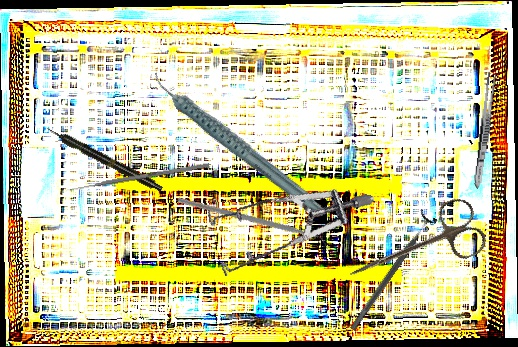Chopper: (176, 160, 330, 289)
Dressing Forceps: (471, 70, 498, 190)
Fixation Ring: (343, 208, 439, 336)
Handpiece: (151, 42, 325, 242), (44, 123, 165, 195)
Iris Scissors: (338, 193, 491, 305)
Pusher: (65, 162, 210, 193)
Speculum: (191, 153, 377, 310)
